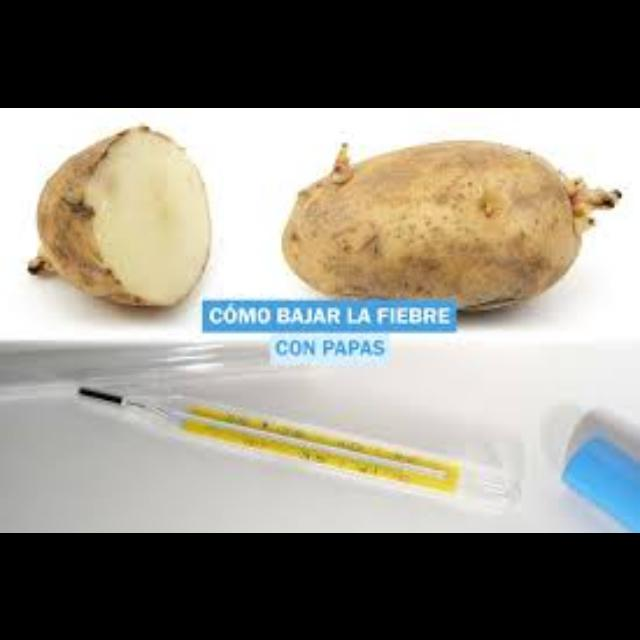Sprouted potato: (281, 133, 604, 319)
